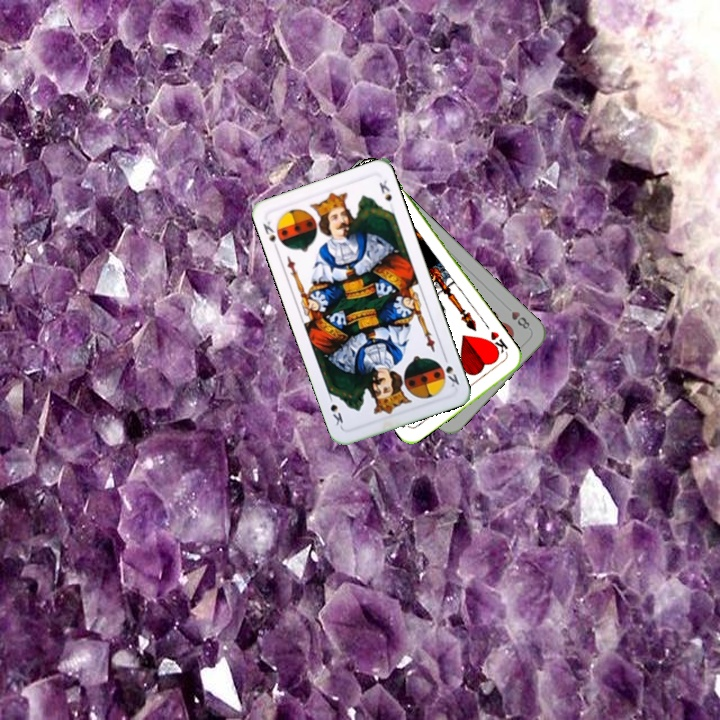H8: (501, 301, 533, 332)
HK: (483, 327, 511, 359)
SK: (439, 351, 462, 390), (259, 217, 281, 254)
